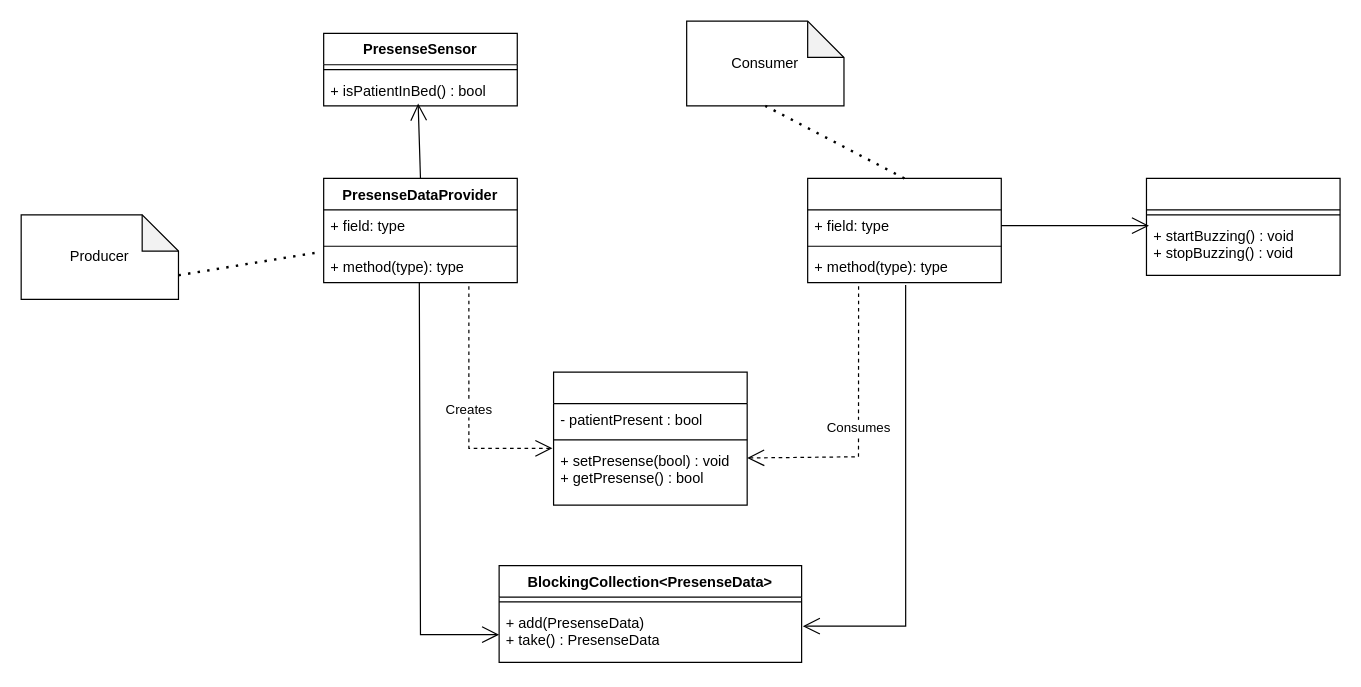
Some shapes in this 1361 by 687 pixel diagram are drawn without their labels. Here are the shapes that lost their labels. From the top down, the box of each, then its label:
(806, 177, 1001, 283): PatientMonitor
(1145, 177, 1340, 275): Buzzer
(552, 371, 747, 505): PresenseData
